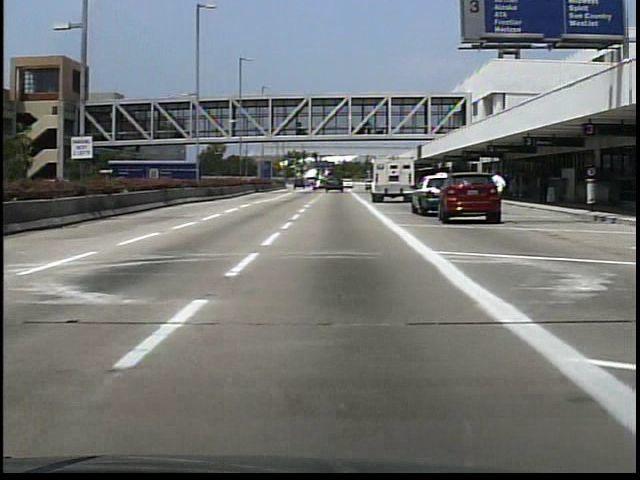person: (487, 170, 507, 225)
